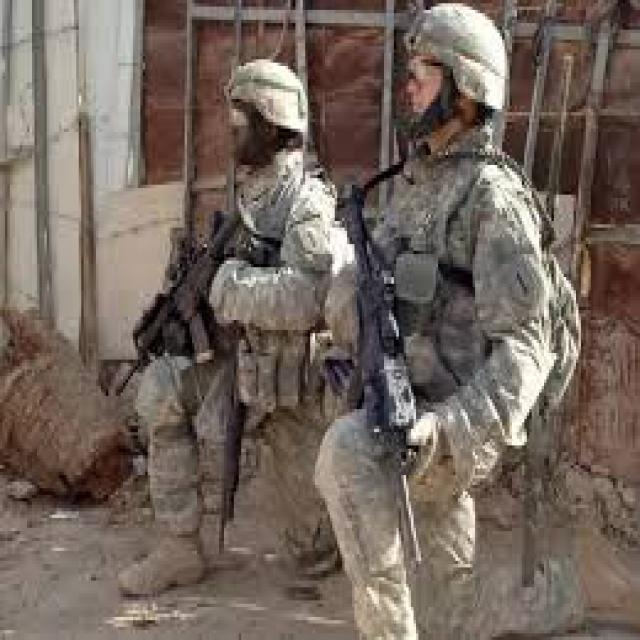long weapon: (102, 179, 259, 414), (323, 177, 433, 491)
